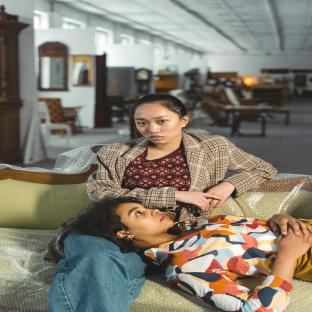Human: (75, 197, 312, 312), (86, 94, 277, 221), (44, 217, 149, 312)
